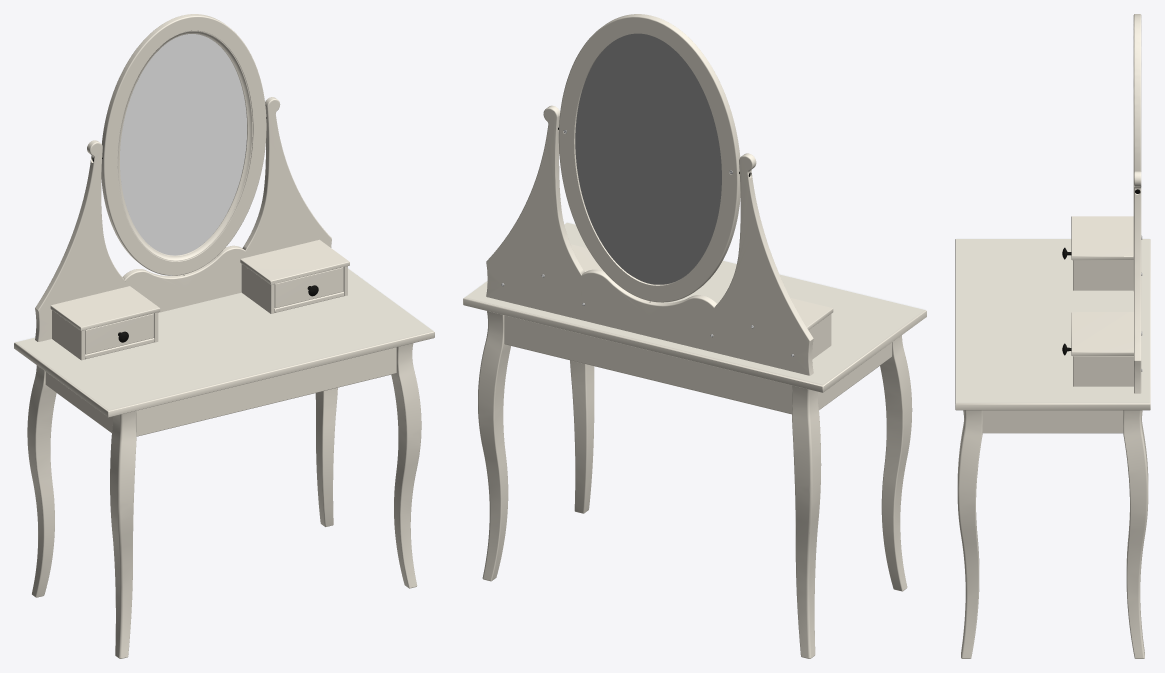
The model's file is drawer-4.glb.
3 views of the same model, side by side, from view 1: azimuth 30°, elevation 25°; view 2: azimuth 150°, elevation 25°; view 3: azimuth 270°, elevation 25° (orthographic). The views are drawn at different scales.
Size of the model in its own units: 1 by 1.59 by 0.5.
2 materials, 1 textured.
